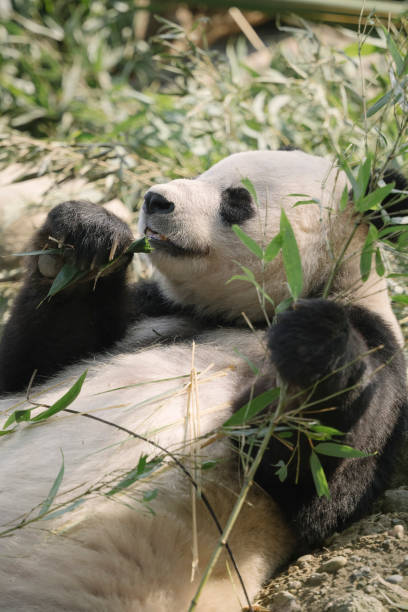panda: (109, 127, 408, 354)
